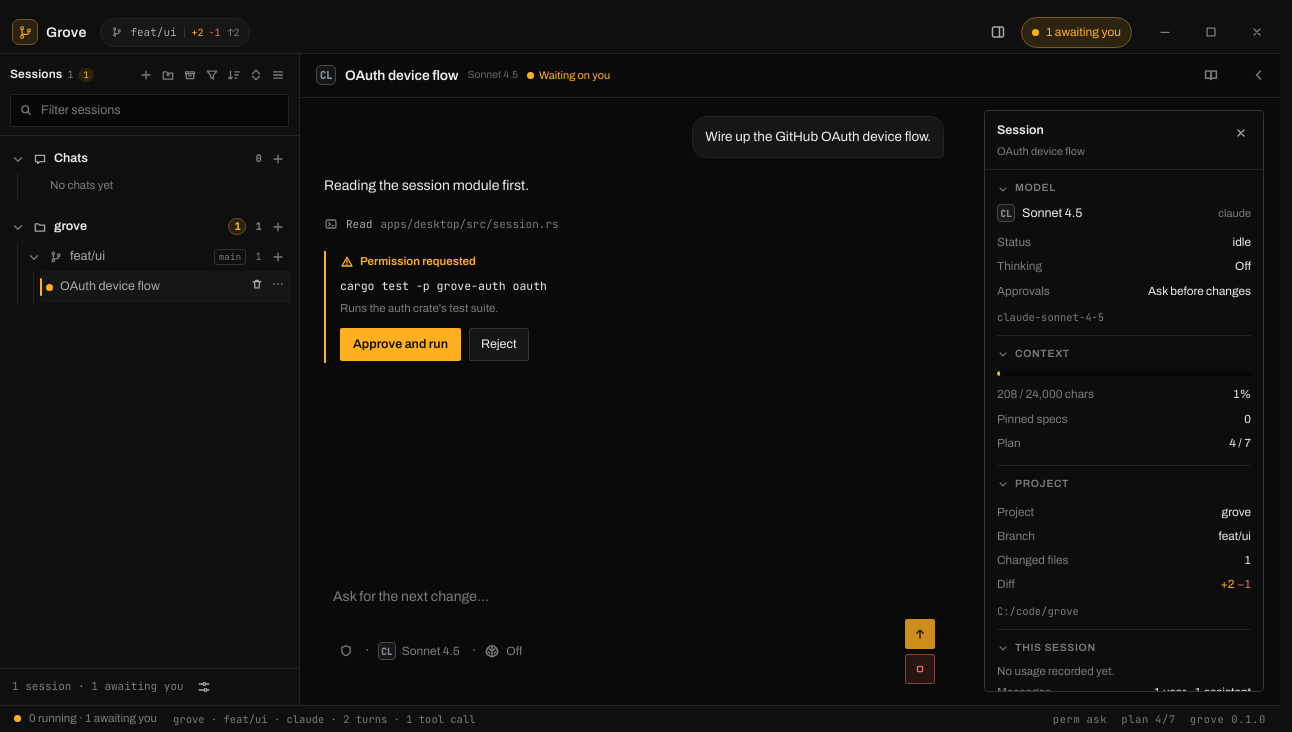
Scenario: redesigned shell › changes the thinking level for the active session
Expected: the heading "OAuth device flow" is shown, [345,64,458,86]
Click the dropdown named "Thinking level for this session": (503, 651) [478,638,528,665]
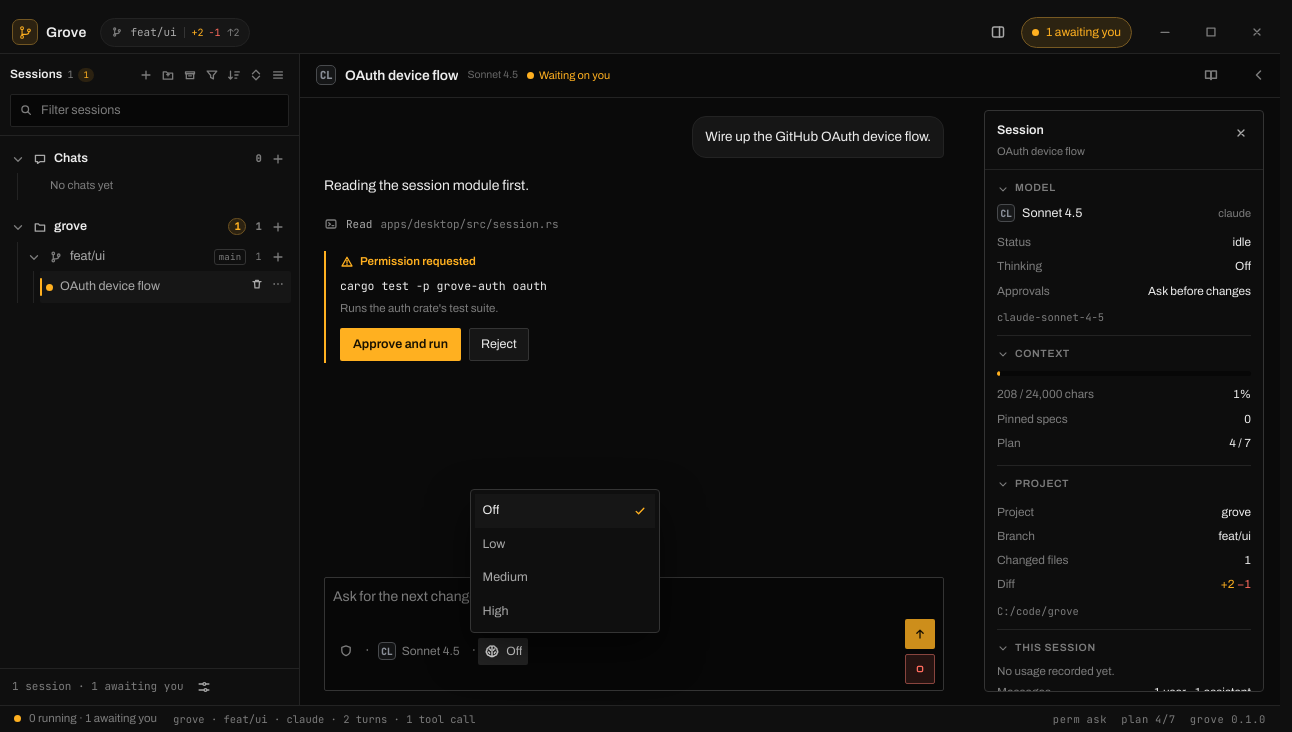
Click the option "High": (565, 611) [475,595,655,628]
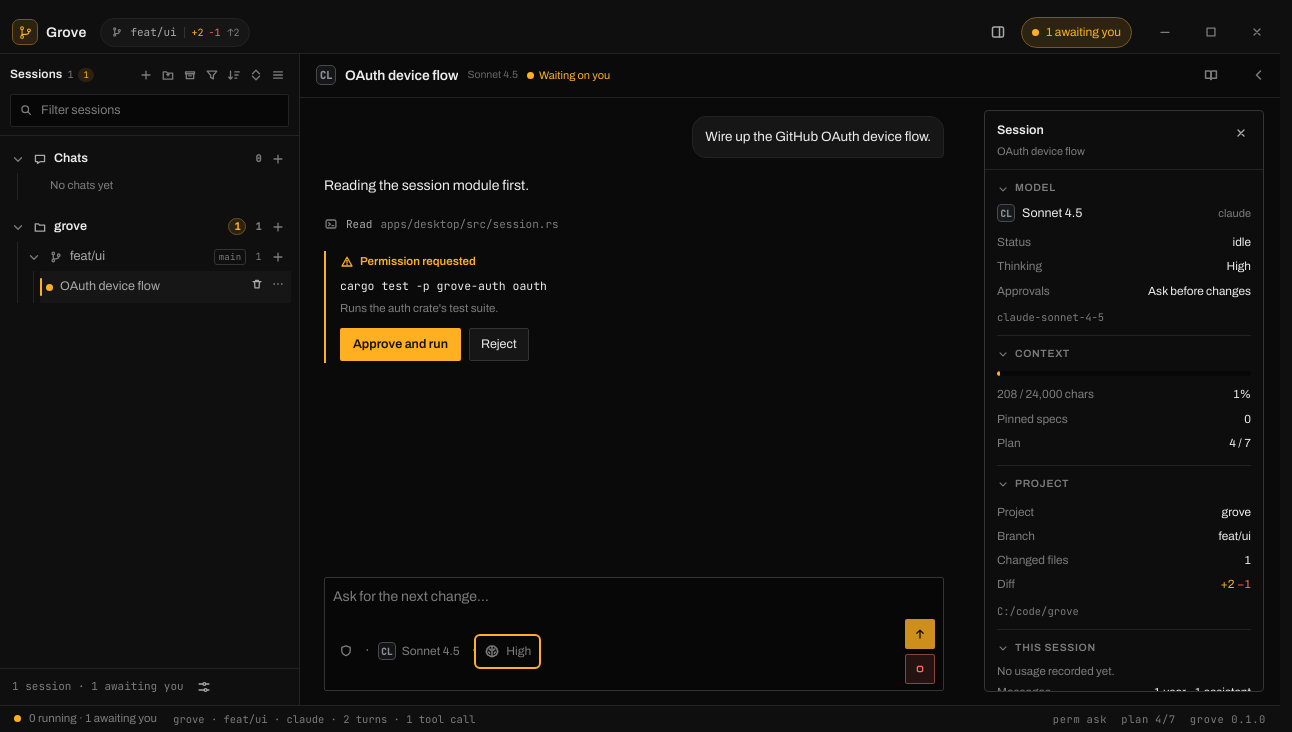
Expected: the dropdown named "Thinking level for this session" reads "High", [478,638,537,665]
